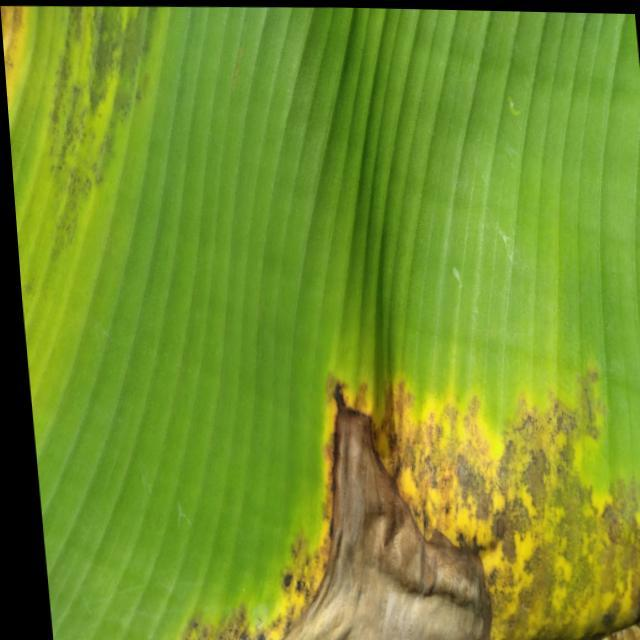Early_rust: (155, 312, 640, 640), (0, 0, 223, 207)
